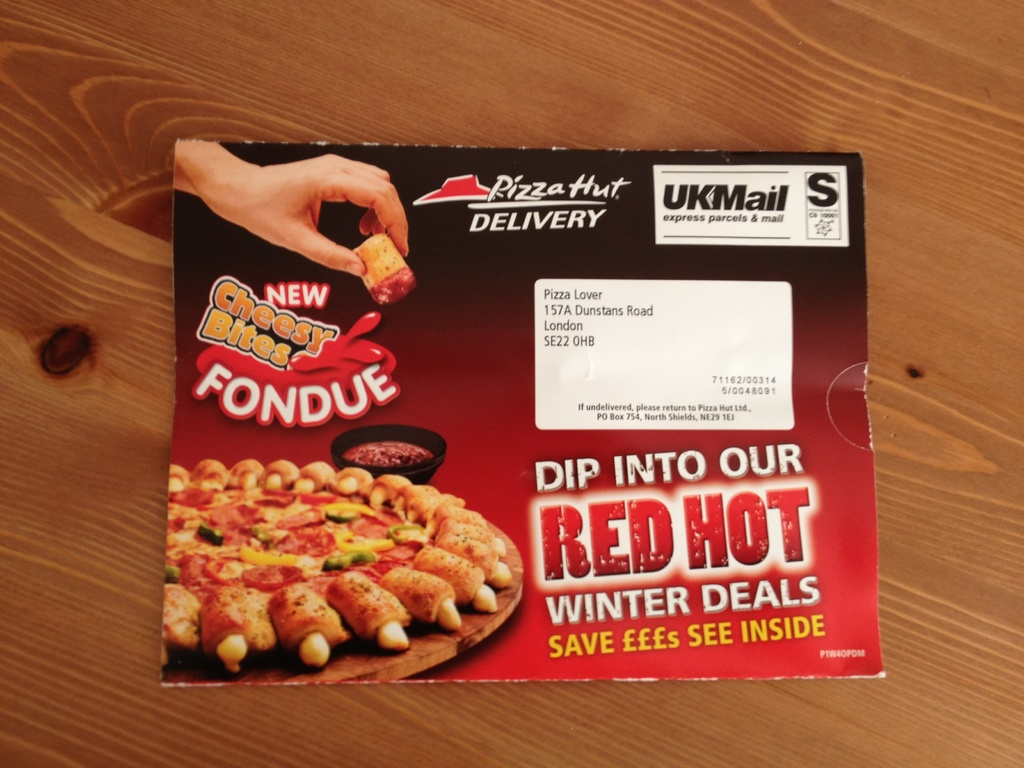Pizza: (157, 468, 504, 672)
